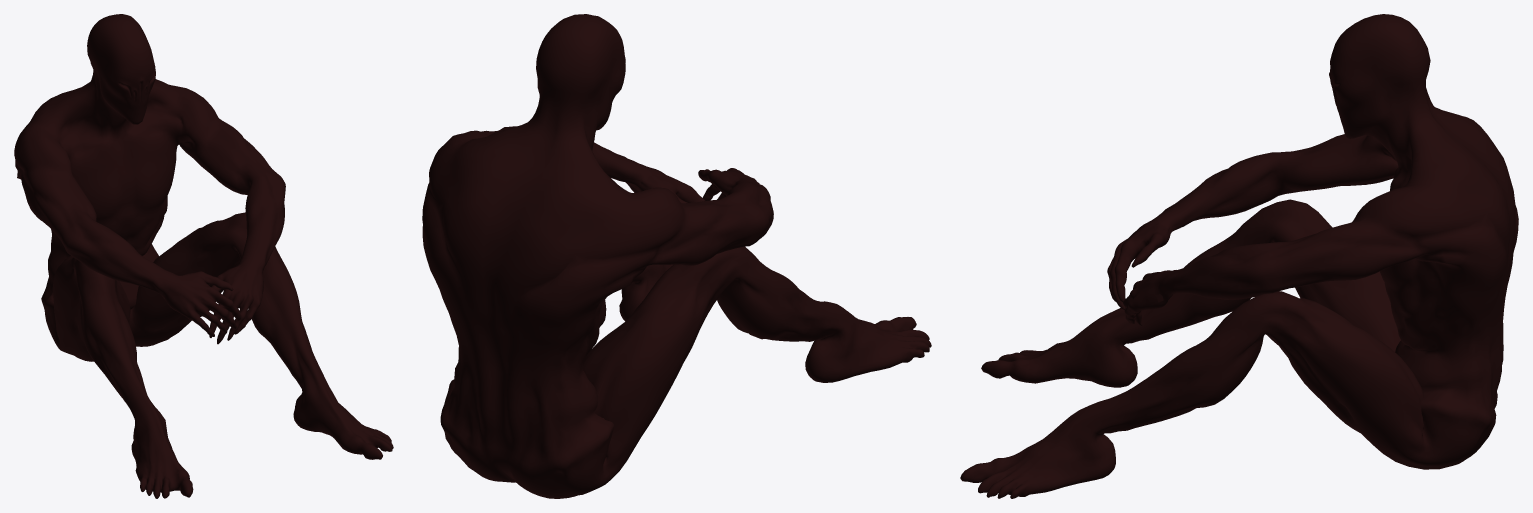
The model's file is sitting.glb.
The picture shows the model from 3 angles, left to right: view 1: azimuth 30°, elevation 25°; view 2: azimuth 150°, elevation 25°; view 3: azimuth 270°, elevation 25°; orthographic projection. The views are drawn at different scales.
Parts seen in each view (by area): view 1: Ch30; view 2: Ch30; view 3: Ch30.
Boxes of the visible parts, x1,y1,x2,y2 form: Ch30: (14,14,393,498); Ch30: (422,14,931,498); Ch30: (960,14,1518,498).
Bounding box in the file's own units: 1.53 × 2.16 × 2.55.
